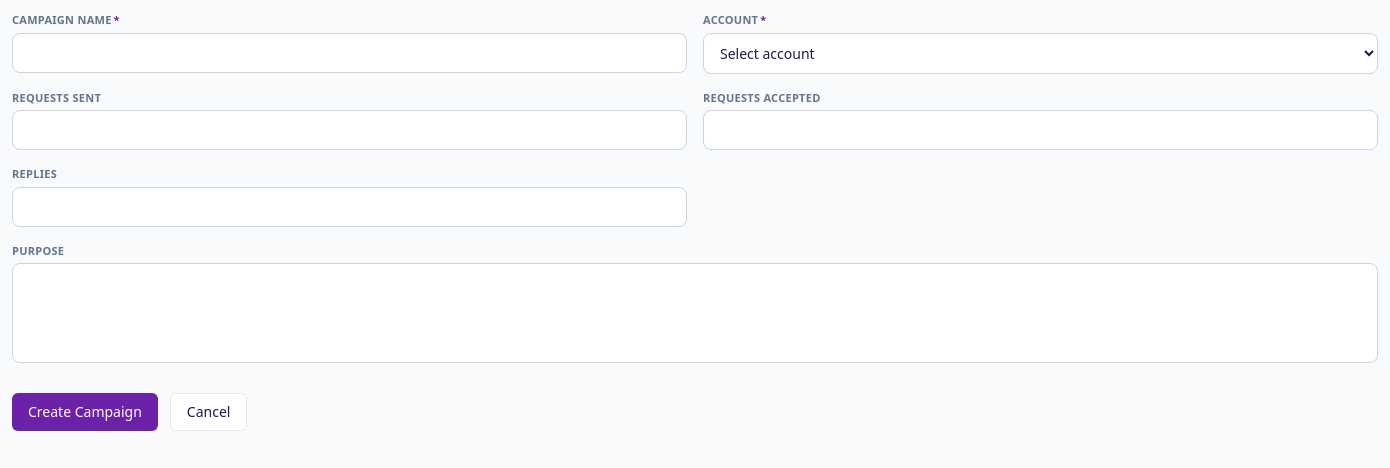
it: CampaignForm › shows validation error when Account is not selected
The image size is (1390, 468).
In the field labelled "Campaign Name*": (350, 52) top-left (12, 32), bottom-right (687, 72), type "Q1 Push"
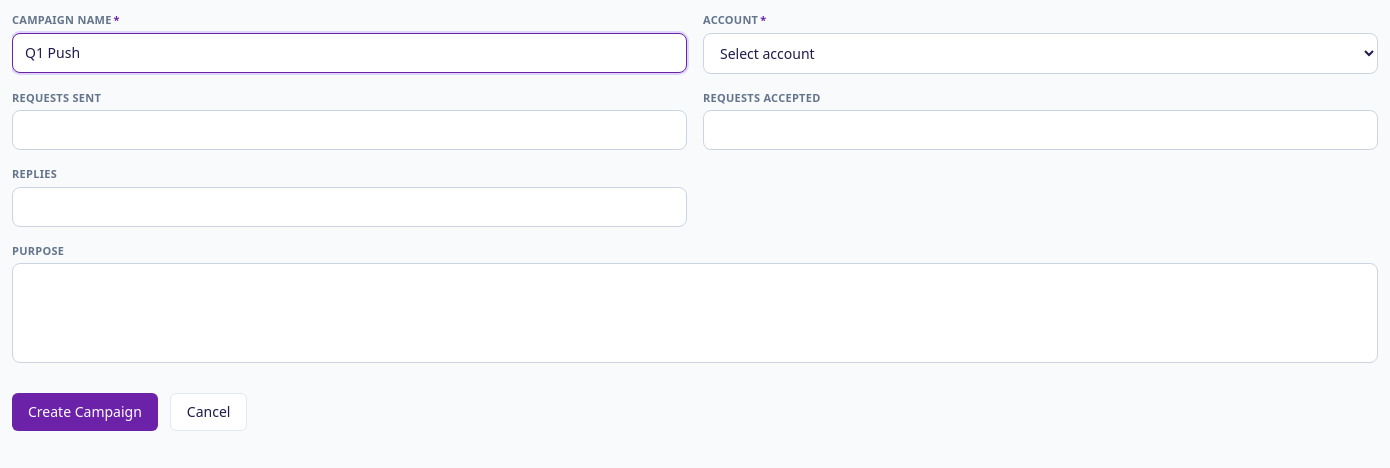
Click the button "Create Campaign": (85, 412) top-left (12, 393), bottom-right (158, 431)
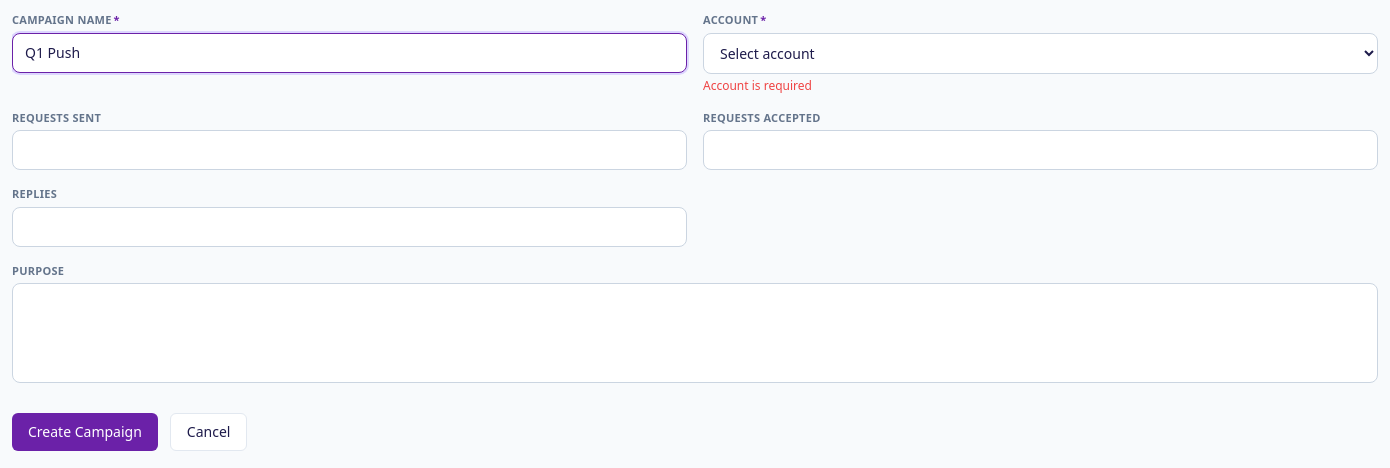
expect the text "Account is required" is shown: met, box top-left (703, 76), bottom-right (812, 94)
